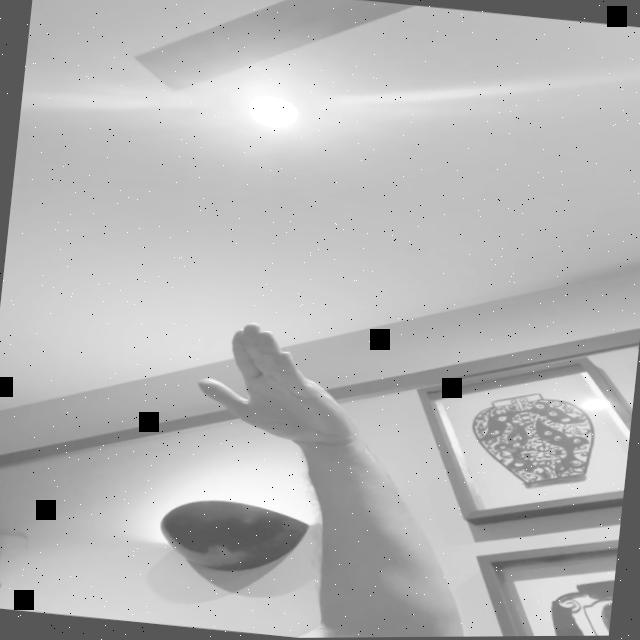Paper: (185, 315, 377, 451)
